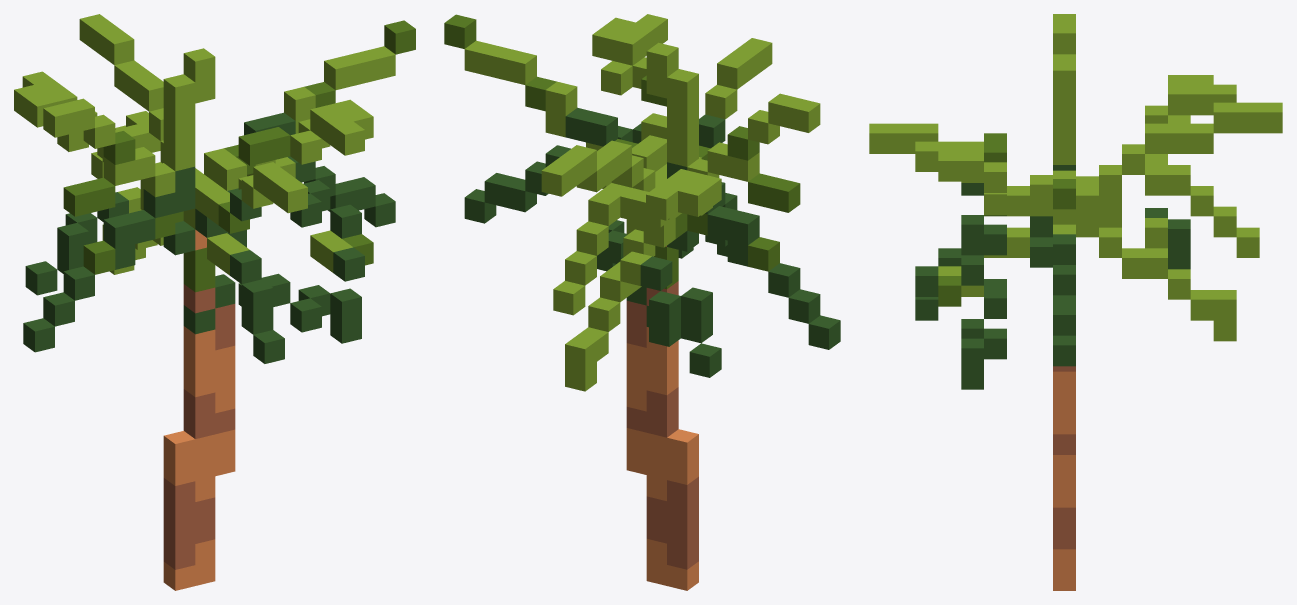
Rendered from Playa-Alterna-4.obj.
3 renders of one model, left to right at view 1: azimuth 30°, elevation 25°; view 2: azimuth 150°, elevation 25°; view 3: azimuth 270°, elevation 25°, orthographic.
Size of the model in its own units: 1.9 by 2.5 by 1.8.
Materials: 1 (1 with a texture image).
